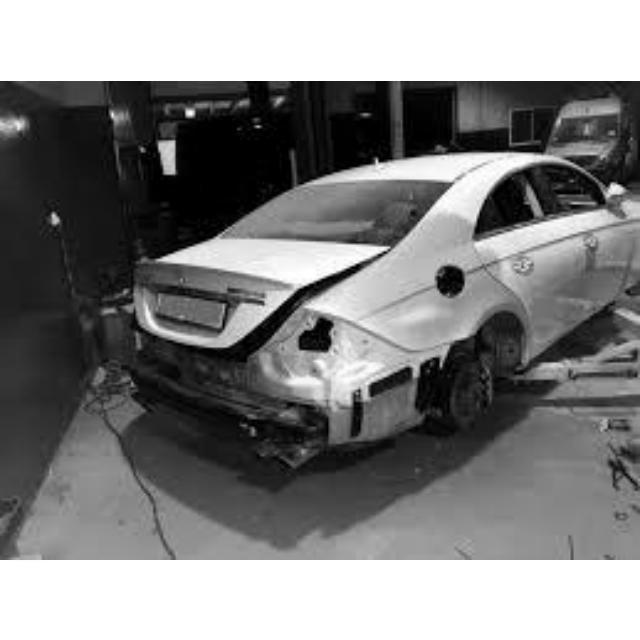rear-bumper-dent: (144, 360, 309, 431)
